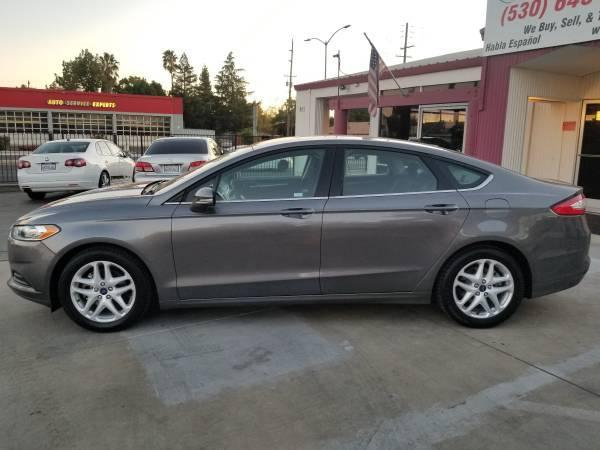Front_Bumper: (5, 241, 55, 306)
Front_Fender: (20, 207, 181, 310)
Front_Left_Door: (170, 193, 328, 303)
Front_Left_Window: (174, 143, 335, 203)
Hood: (15, 180, 160, 223)
Left_Headlight: (11, 224, 62, 242)
Left_Taillight: (550, 188, 584, 214)
Rear_Bumper: (525, 214, 589, 295)
Rear_Fender: (427, 150, 576, 247)
Rear_Left_Door: (318, 192, 467, 300)
Rear_Left_Window: (328, 145, 458, 197)
Roof: (157, 134, 574, 203)
Wheel: (59, 251, 144, 333), (442, 247, 525, 325)
